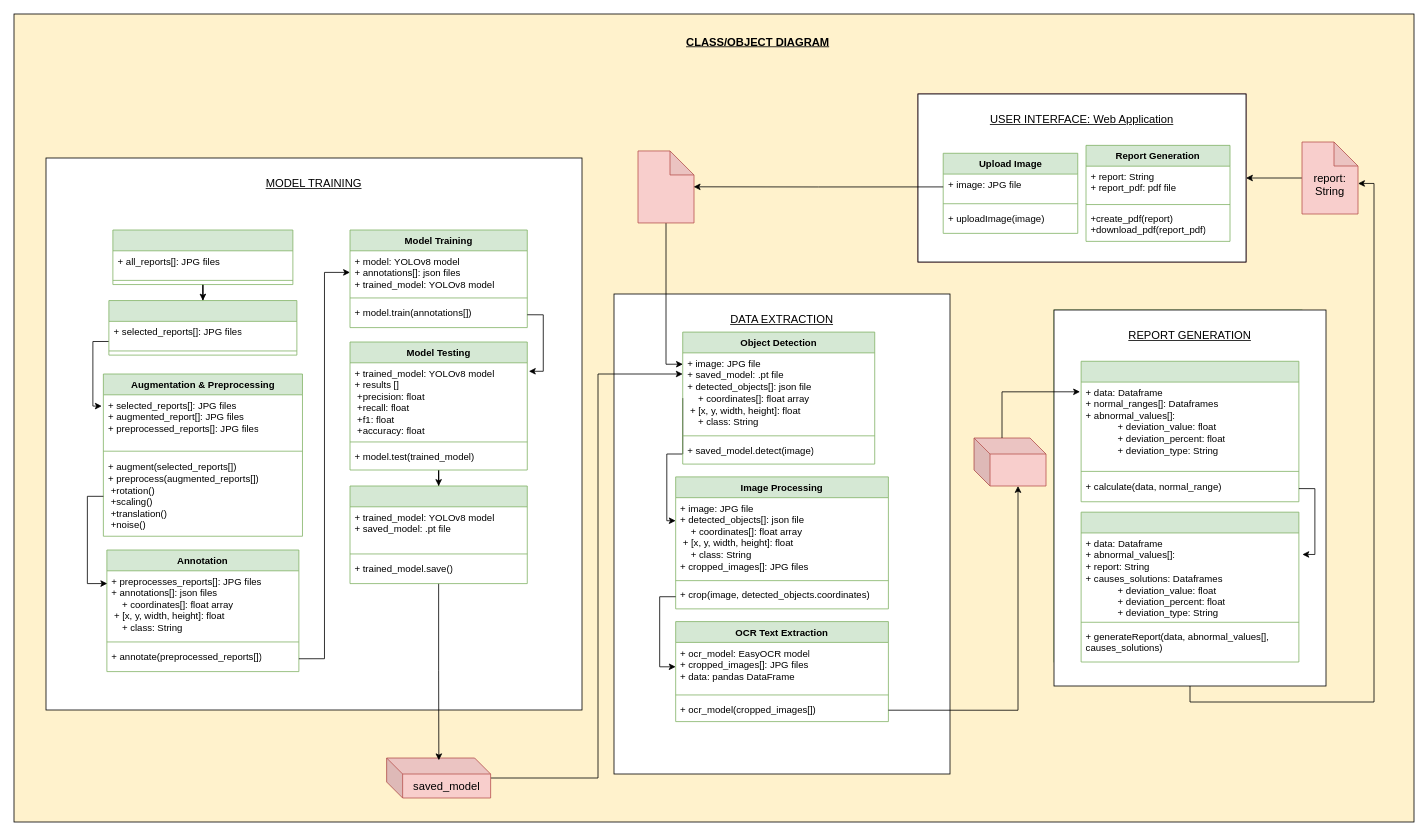
The diagram is 1428 pixels wide and 836 high, and some of its shapes have lost their labels. The shapes that lost their labels are listed below. From the top down, each one's box as (x1, y1, x2, y2) in pixels, then its label:
(637, 150, 694, 223): image: JPG file
(112, 229, 293, 285): Report Collection
(108, 300, 297, 355): Report Selection
(1080, 360, 1299, 502): Calculations
(973, 437, 1046, 486): data: Dataframe
(349, 485, 527, 584): Model Saving
(1080, 511, 1299, 662): Causes & Solutions Suggestions
